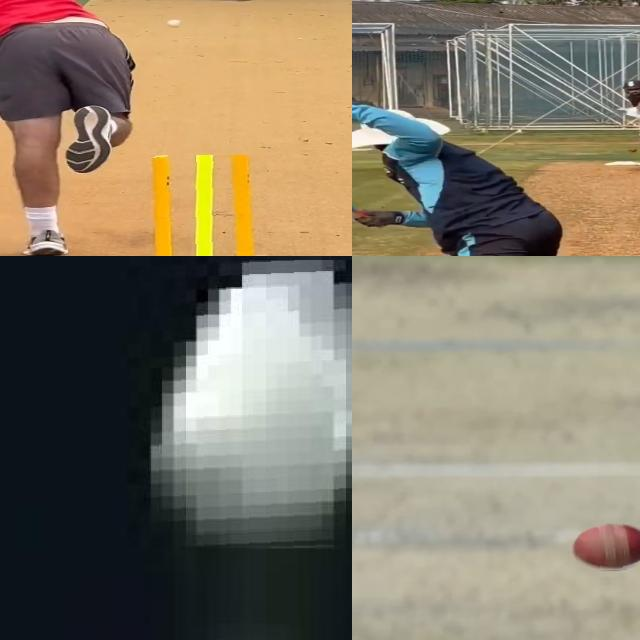Cricket ball: (147, 259, 352, 553), (565, 523, 640, 572), (167, 18, 184, 28), (629, 148, 638, 153)
Stumps: (131, 154, 267, 256)
